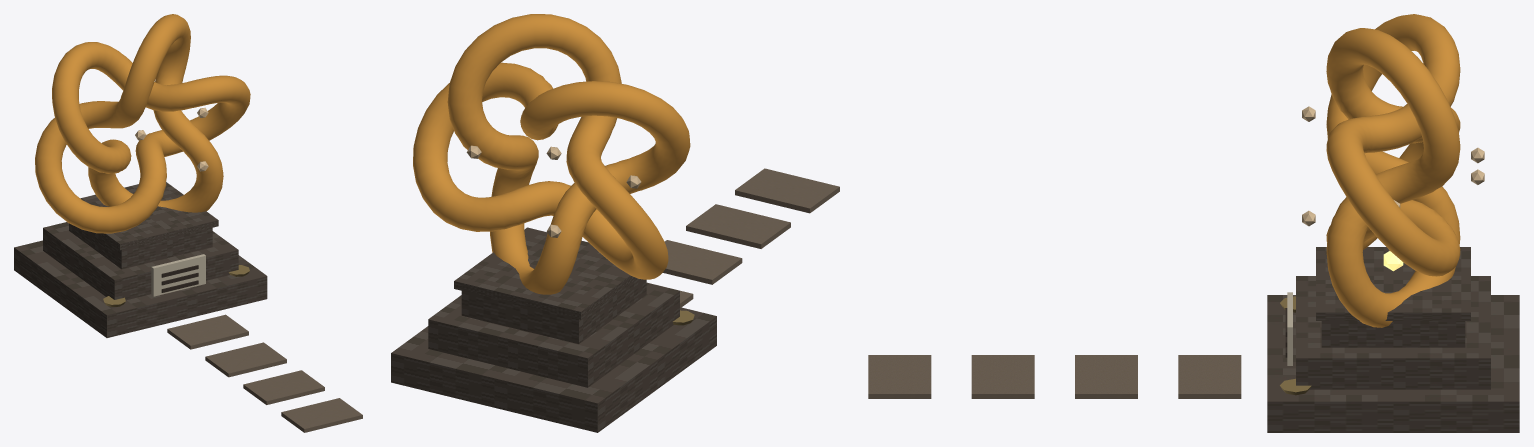
The model's file is served-verified.glb.
3 renders of one model, left to right at view 1: azimuth 30°, elevation 25°; view 2: azimuth 150°, elevation 25°; view 3: azimuth 270°, elevation 25°, orthographic. The views are drawn at different scales.
Visible parts, largest first — view 1: knot, mn3_0, mn3_4, mn3_1, mn3_2, mn3_3; view 2: knot, mn3_0, mn3_4; view 3: mn3_0, knot, mn3_4.
Part boxes in pixels (bbox=[...]): knot: bbox=[35, 14, 250, 233]; mn3_0: bbox=[14, 182, 267, 337]; mn3_4: bbox=[167, 314, 362, 432]; mn3_1: bbox=[151, 254, 205, 296]; mn3_2: bbox=[161, 265, 198, 292]; mn3_3: bbox=[103, 265, 249, 306]; knot: bbox=[413, 14, 690, 294]; mn3_0: bbox=[391, 227, 716, 432]; mn3_4: bbox=[647, 168, 839, 307]; mn3_0: bbox=[1267, 247, 1519, 432]; knot: bbox=[1302, 14, 1484, 327]; mn3_4: bbox=[868, 355, 1241, 398].
Size of the model in its own units: 2.71 by 3.44 by 5.67.
Materials: 4 (2 with a texture image).
